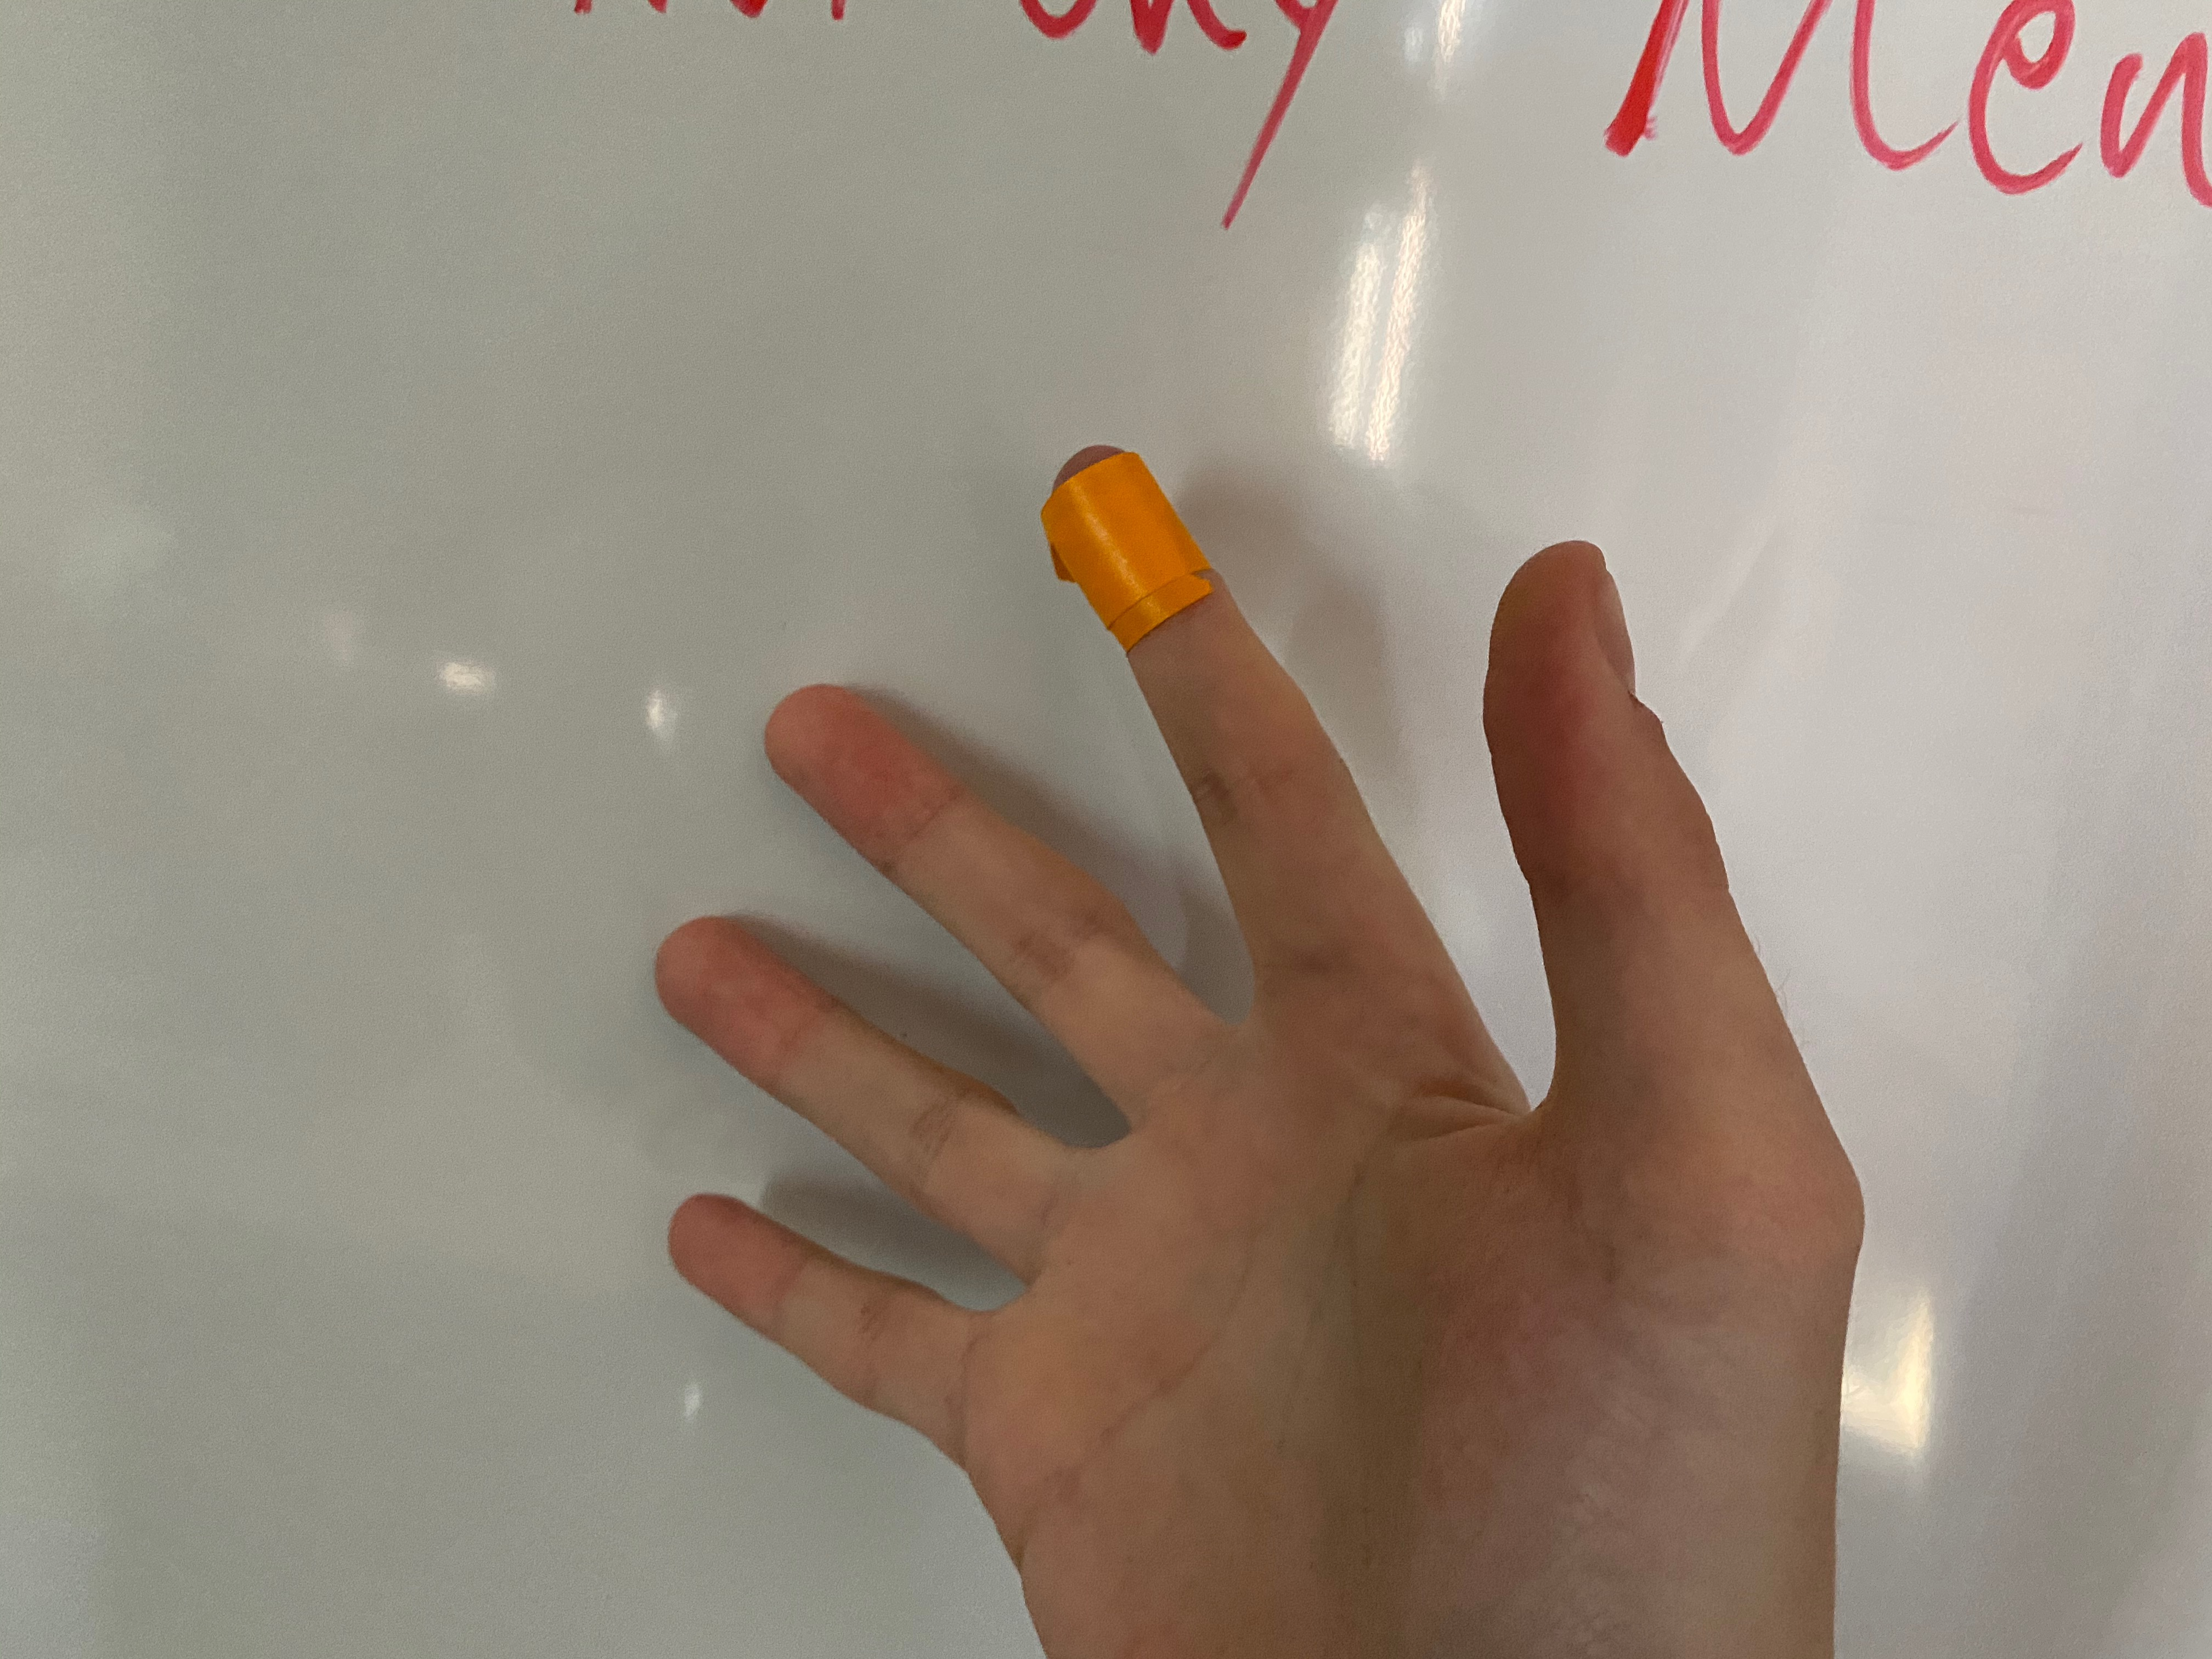fingertip: (1022, 437, 1258, 680)
